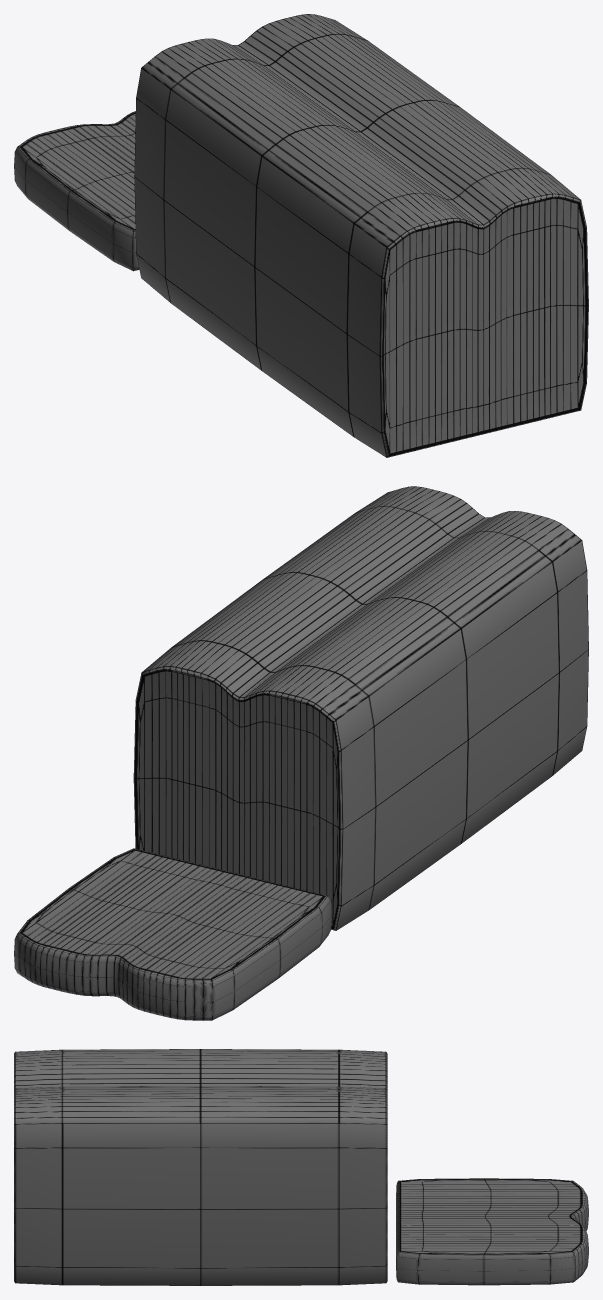
The model's file is bread.fbx.
3 renders of one model, top to bottom at view 1: azimuth 30°, elevation 25°; view 2: azimuth 150°, elevation 25°; view 3: azimuth 270°, elevation 25°, orthographic. The views are drawn at different scales.
Visible parts, largest first — view 1: Bread_Slice; view 2: Bread_Slice; view 3: Bread_Slice.
Part boxes in pixels (<box>): Bread_Slice: <box>14,14,588,457</box>; Bread_Slice: <box>14,486,588,1020</box>; Bread_Slice: <box>14,1049,588,1285</box>.
Size of the model in its own units: 9.24 by 9.57 by 28.53.
